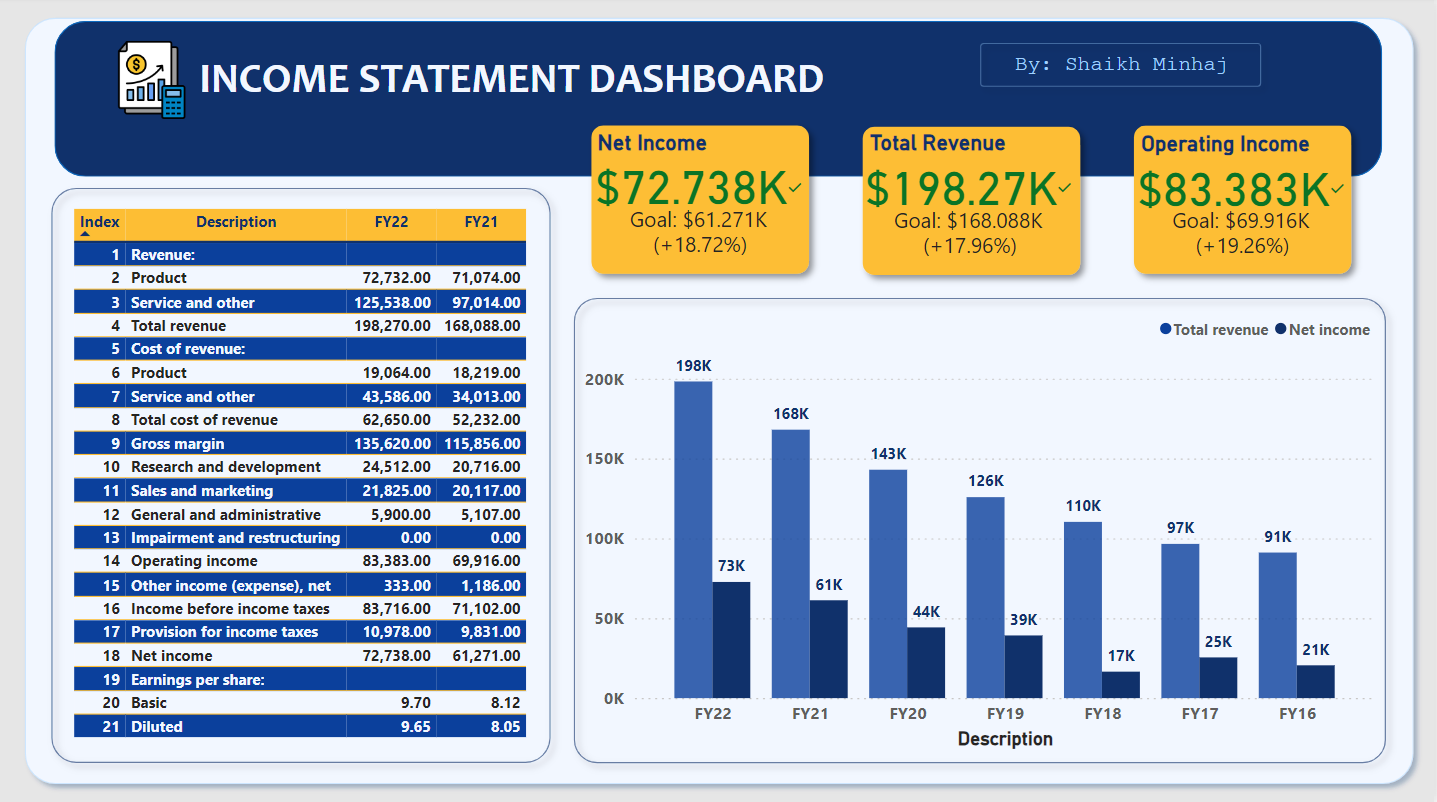

What the dashboard file says about the page in this screenshot:
{"tool":"powerbi","page":{"name":"Page 1","canvas":[1280,720],"ordinal":0},"visuals":[{"type":"shape","box":[8,0,1270.7,720.4],"z":0},{"type":"shape","box":[50.7,21.7,1182.3,138.7],"z":1000},{"type":"textbox","box":[137.5,45.8,640.6,103.8],"z":2000},{"type":"shape","box":[37.4,160.5,465.7,533.2],"z":3000},{"type":"shape","box":[503.1,258.2,744.4,435.5],"z":4000},{"type":"shape","box":[865,31.4,271.4,60.3],"z":5000},{"type":"textbox","box":[890.4,45.8,222,45.8],"z":6000},{"type":"image","box":[95.3,31.4,84.5,86.9],"z":7000},{"type":"tableEx","fields":{"Values":["Yearly Income Statements.Index","Yearly Income Statements.Description","Yearly Income Statements.FY22","Yearly Income Statements.FY21"]},"box":[62.7,184.6,440.4,499.5],"z":8000},{"type":"shape","box":[518.8,105,215,153.2],"z":9000},{"type":"shape","box":[1001.3,105,214.7,153.2],"z":10000},{"type":"shape","box":[760.1,106.2,215,153.2],"z":11000},{"type":"kpi","title":"Net Income","fields":{"TrendLine":["Net Income.Description"],"Indicator":["Sum(Net Income.FY22)"],"Goal":["Sum(Net Income.FY21)"]},"box":[529.6,119.4,189.4,130.3],"z":12000},{"type":"kpi","title":"Operating Income","fields":{"TrendLine":["Operating Income.Description"],"Indicator":["Sum(Operating Income.FY22)"],"Goal":["Sum(Operating Income.FY21)"]},"box":[1014.6,120.6,187,130.3],"z":13000},{"type":"kpi","title":"Total Revenue","fields":{"TrendLine":["Total Revenue.Description"],"Indicator":["Sum(Total Revenue.FY22)"],"Goal":["Sum(Total Revenue.FY21)"]},"box":[772.1,119.4,184.6,131.5],"z":14000},{"type":"clusteredColumnChart","fields":{"Category":["Table.Description"],"Y":["Sum(Table.      Total revenue)","Sum(Table.Net income)"]},"box":[518.8,276.3,714.2,399.3],"z":15000}]}

Visuals, with their boxes in screenshot pixels (x1, y1, x2, y2), scaled from the page's 1280x720 canvas onto the 1437x802 screenshot:
shape: {"x1": 9, "y1": 0, "x2": 1436, "y2": 801}
shape: {"x1": 57, "y1": 24, "x2": 1384, "y2": 179}
textbox: {"x1": 154, "y1": 51, "x2": 874, "y2": 167}
shape: {"x1": 42, "y1": 179, "x2": 565, "y2": 773}
shape: {"x1": 565, "y1": 288, "x2": 1401, "y2": 773}
shape: {"x1": 971, "y1": 35, "x2": 1276, "y2": 102}
textbox: {"x1": 1000, "y1": 51, "x2": 1249, "y2": 102}
image: {"x1": 107, "y1": 35, "x2": 202, "y2": 132}
tableEx - Yearly Income Statements.Index x Yearly Income Statements.Description: {"x1": 70, "y1": 206, "x2": 565, "y2": 762}
shape: {"x1": 582, "y1": 117, "x2": 824, "y2": 288}
shape: {"x1": 1124, "y1": 117, "x2": 1365, "y2": 288}
shape: {"x1": 853, "y1": 118, "x2": 1095, "y2": 289}
"Net Income" kpi: {"x1": 595, "y1": 133, "x2": 807, "y2": 278}
"Operating Income" kpi: {"x1": 1139, "y1": 134, "x2": 1349, "y2": 279}
"Total Revenue" kpi: {"x1": 867, "y1": 133, "x2": 1074, "y2": 279}
clusteredColumnChart - Table.Description x Sum(Table.      Total revenue): {"x1": 582, "y1": 308, "x2": 1384, "y2": 753}
